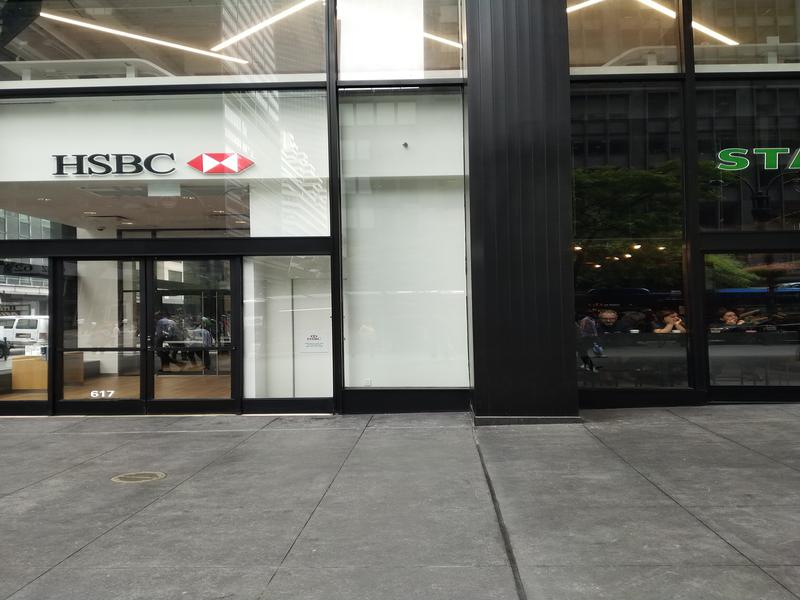double_door: (54, 249, 250, 413)
